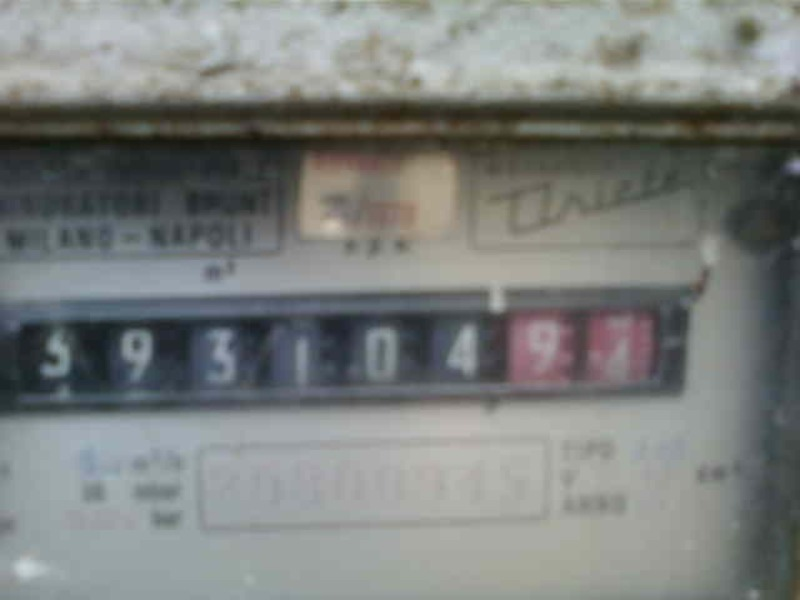ssgc: (4, 298, 684, 403)
